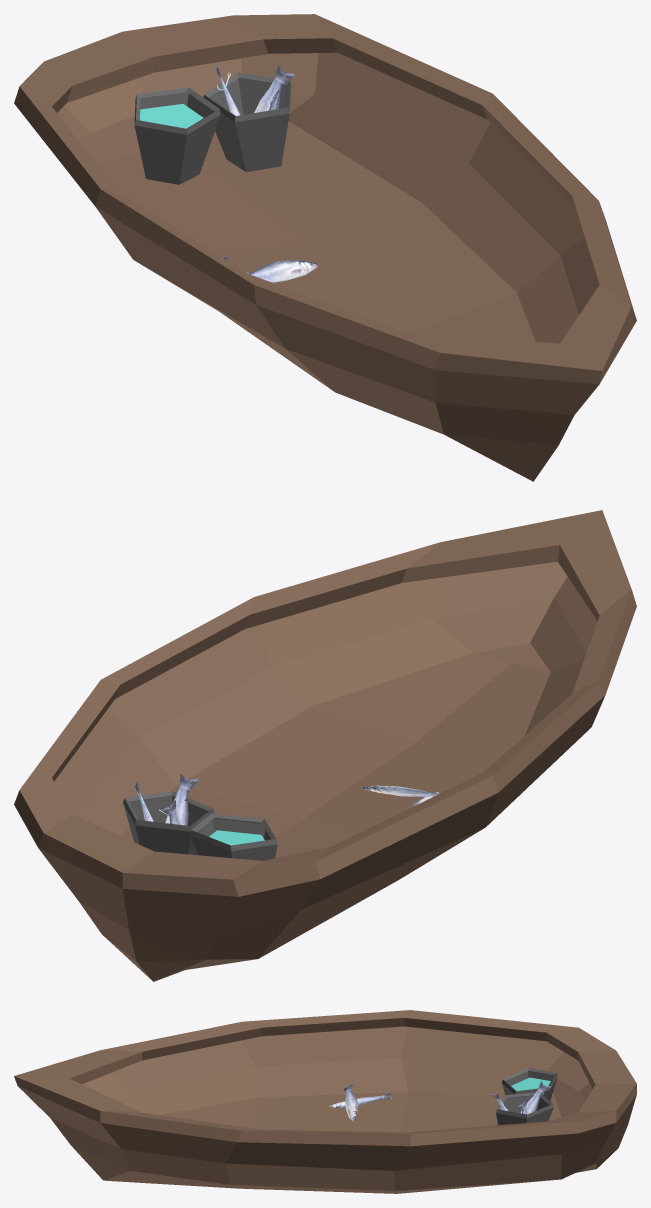
The model's file is barco2.glb.
3 views of the same model, one above another, from view 1: azimuth 30°, elevation 25°; view 2: azimuth 150°, elevation 25°; view 3: azimuth 270°, elevation 25° (orthographic). The views are drawn at different scales.
Parts seen in each view (by area): view 1: Cube.001, Plane.001, Plane.002, Plane.003, Plane.004; view 2: Cube.001, Plane.002, Plane.001, Plane.004; view 3: Cube.001, Plane.002, Plane.001, Plane.003, Plane.004.
Boxes of the visible parts, x1=… form: Cube.001: x1=14, y1=14, x2=636, y2=481; Plane.001: x1=134, y1=87, x2=220, y2=184; Plane.002: x1=203, y1=72, x2=291, y2=172; Plane.003: x1=222, y1=255, x2=317, y2=282; Plane.004: x1=214, y1=65, x2=295, y2=115; Cube.001: x1=14, y1=510, x2=636, y2=981; Plane.002: x1=123, y1=791, x2=214, y2=855; Plane.001: x1=190, y1=813, x2=277, y2=860; Plane.004: x1=133, y1=774, x2=199, y2=825; Cube.001: x1=14, y1=1010, x2=636, y2=1193; Plane.002: x1=496, y1=1092, x2=553, y2=1125; Plane.001: x1=502, y1=1068, x2=557, y2=1100; Plane.003: x1=329, y1=1082, x2=392, y2=1121; Plane.004: x1=491, y1=1081, x2=551, y2=1114.
Size of the model in its own units: 3.43 by 1.52 by 7.07.
Materials: 5 (1 with a texture image).
